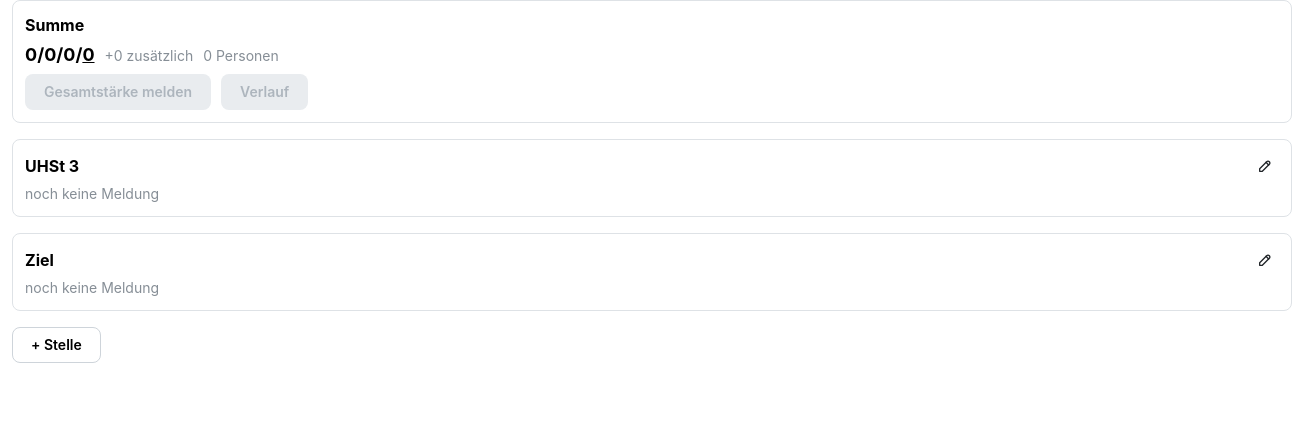
StrengthPanel › renaming a Stelle › keeps the name on Abbrechen, the card not looking clickable meanwhile
Click the button named "UHSt 3 umbenennen" at (1265,166), box [1251,152,1279,180]
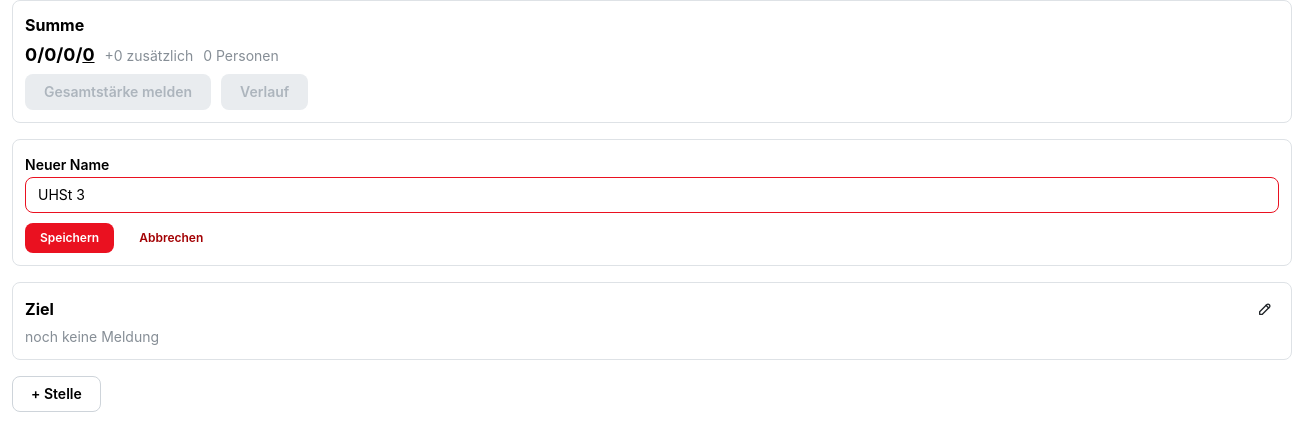
Type " Nord" into the field labelled "Neuer Name" at (652,195), box [25,177,1279,213]
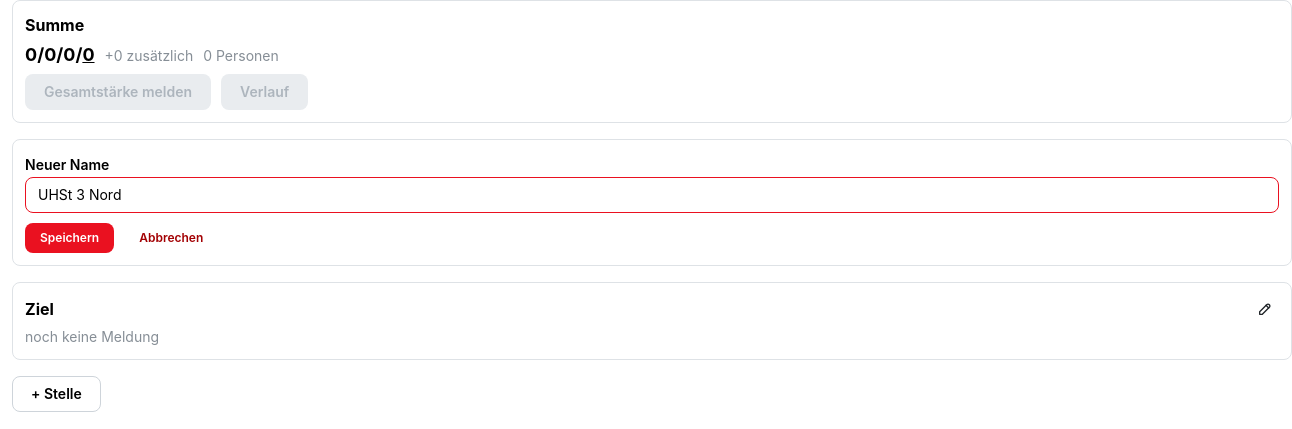
Click the button "Abbrechen" at (171,238), box [124,223,218,253]
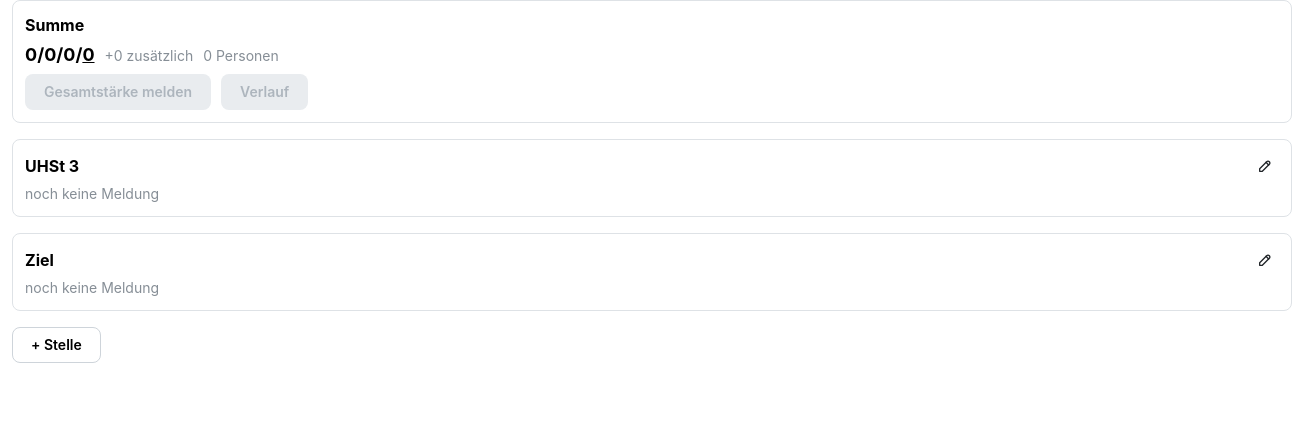
Expected: the label "Neuer Name" is gone
Expected: the text "UHSt 3" is shown, [25,154,79,178]
